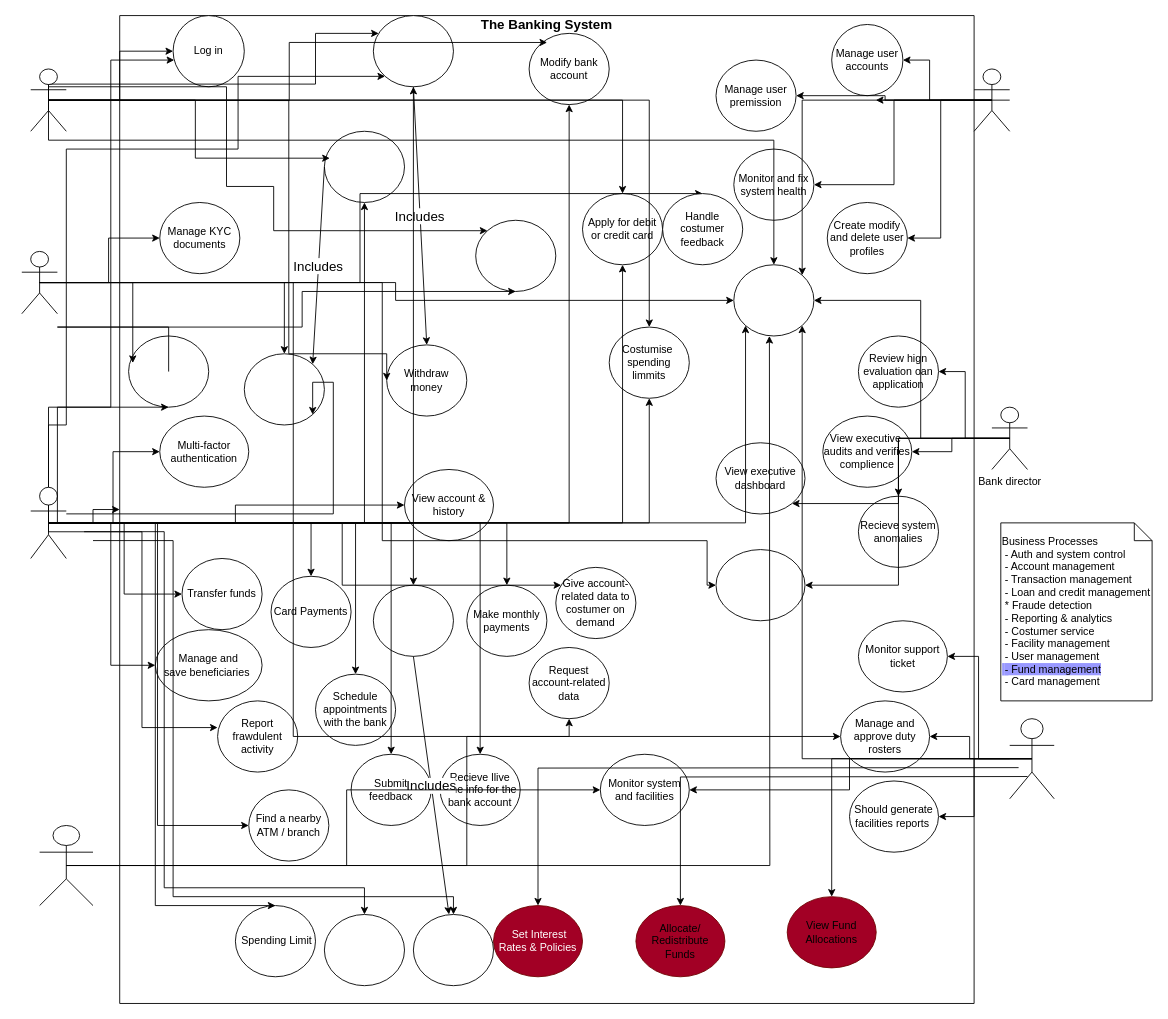
Some shapes in this 1168 by 1019 pixel diagram are drawn without their labels. Here are the shapes that lost their labels. From the top down, the centre of each, then its label:
At (412,51): "Close bank account".
At (48,99): "Bank Teller".
At (991,99): "Administrator".
At (364,166): "Open bank account".
At (515,255): "Deposit money".
At (39,282): "Bank Staff".
At (773,300): "Log in into the system".
At (168,371): "Review flaged accounts".
At (283,389): "Card Application".
At (48,522): "Customer".
At (760,585): "Access fraud detection analytics".
At (412,620): "Submit loan application".
At (1031,758): "Facilities manager".
At (66,865): "Facility staff".
At (364,950): "Block/Unblock".
At (453,950): "Loan Amortization".
